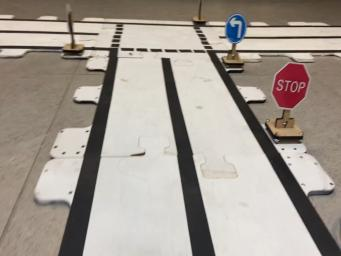left: (222, 13, 247, 72), (222, 13, 247, 72)
stop: (266, 62, 310, 142), (266, 62, 310, 142)
street: (60, 20, 341, 255), (60, 20, 341, 255), (239, 27, 341, 52), (239, 27, 341, 52), (0, 20, 70, 50), (0, 20, 70, 50)
